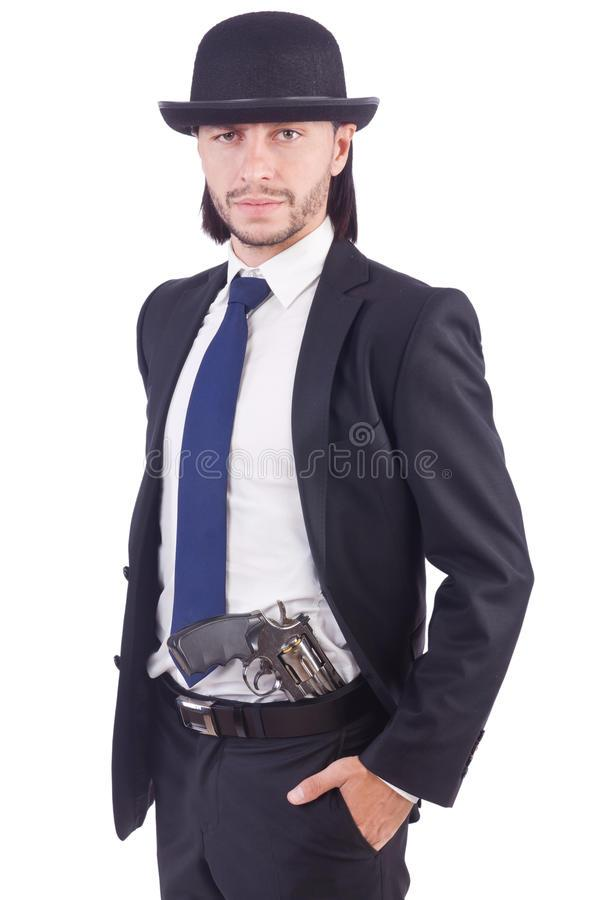criminal: (109, 8, 532, 900)
weapon: (166, 600, 347, 711)
